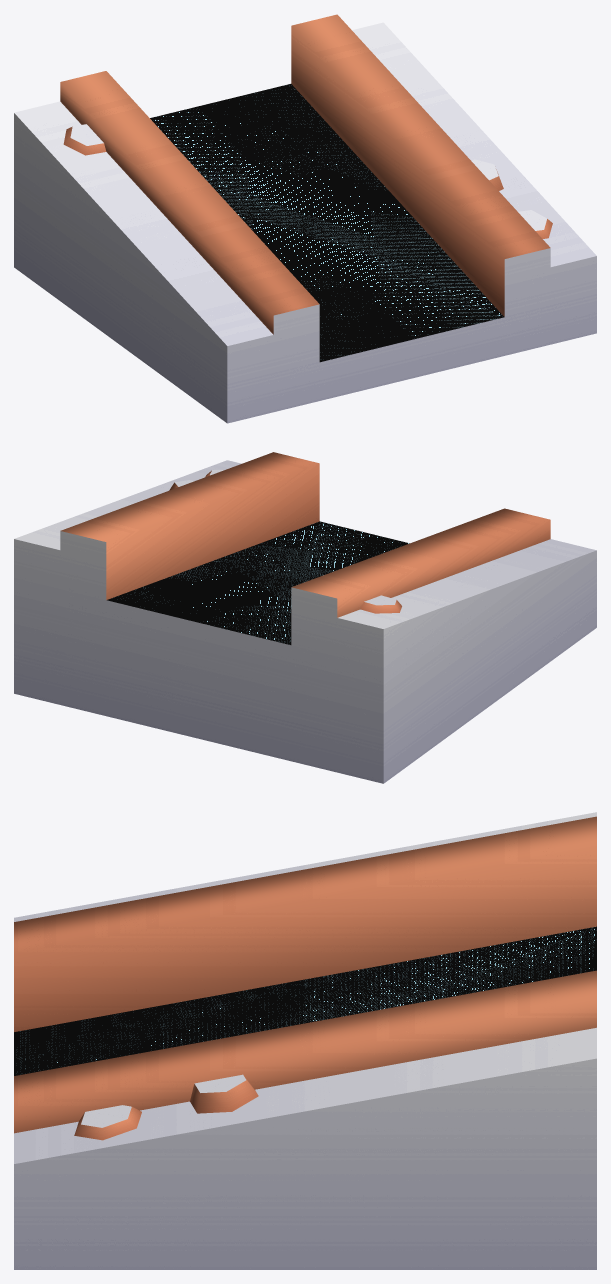
The model's file is tower-defense-kit--snow-tile-river-slope.glb.
3 views of the same model, one above another, from view 1: azimuth 30°, elevation 25°; view 2: azimuth 150°, elevation 25°; view 3: azimuth 270°, elevation 25° (orthographic). The views are drawn at different scales.
Parts seen in each view (by area): view 1: snow-tile-river-slope; view 2: snow-tile-river-slope; view 3: snow-tile-river-slope.
Part boxes in pixels (x1,y1,x2,y2): snow-tile-river-slope: [14, 14, 596, 423]; snow-tile-river-slope: [14, 452, 596, 783]; snow-tile-river-slope: [14, 812, 596, 1269].
Bounding box in the file's own units: 1 × 0.45 × 1.
Materials: 1 (1 with a texture image).
